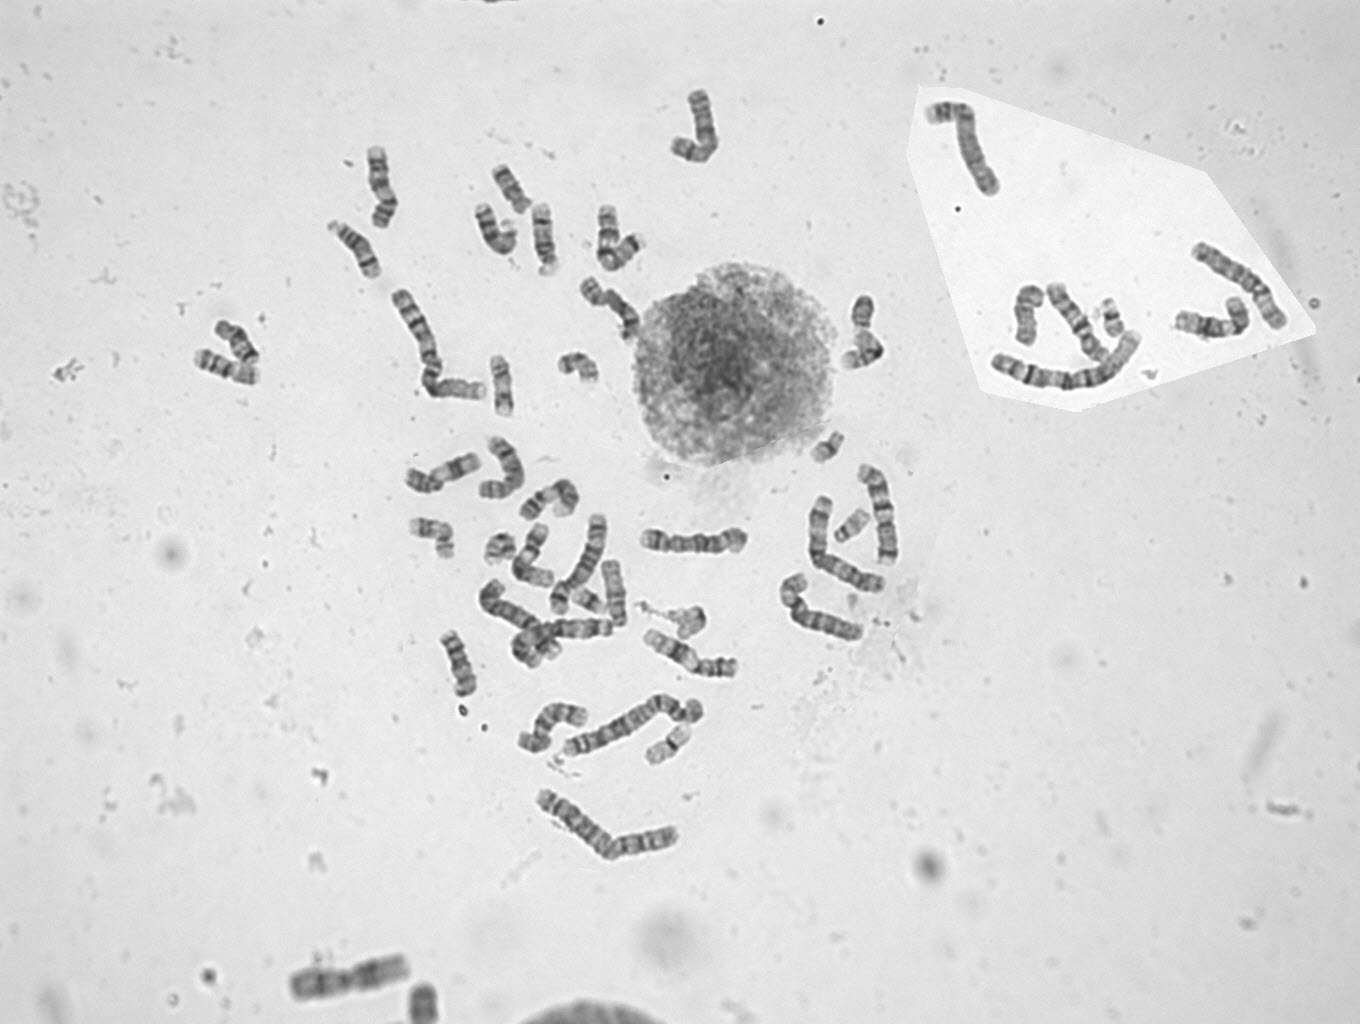chromosomes: (541, 782, 683, 865), (554, 694, 712, 765), (395, 283, 489, 401), (1185, 240, 1291, 341), (990, 333, 1154, 395), (922, 101, 1007, 204), (808, 490, 888, 600), (477, 573, 569, 663), (550, 512, 616, 618), (509, 611, 618, 674), (778, 572, 868, 649), (1046, 281, 1114, 367), (642, 628, 742, 684), (579, 272, 649, 352), (858, 454, 902, 573), (509, 701, 595, 760), (638, 517, 751, 561), (669, 83, 727, 169), (1174, 287, 1251, 347), (359, 130, 403, 230), (321, 221, 386, 283), (190, 347, 273, 396), (595, 197, 647, 271), (510, 518, 561, 594), (434, 627, 484, 703), (477, 430, 529, 503), (401, 453, 482, 499), (527, 193, 564, 288), (470, 199, 524, 259), (517, 475, 584, 523), (1010, 282, 1053, 349), (488, 159, 536, 217), (409, 512, 460, 564), (483, 351, 521, 419), (216, 316, 266, 368), (599, 555, 630, 635), (641, 724, 698, 766), (832, 328, 885, 372), (828, 507, 876, 553), (558, 344, 605, 390), (665, 597, 708, 640), (481, 527, 521, 568), (810, 427, 850, 467), (1091, 297, 1128, 340), (848, 289, 881, 331), (573, 584, 611, 615)
